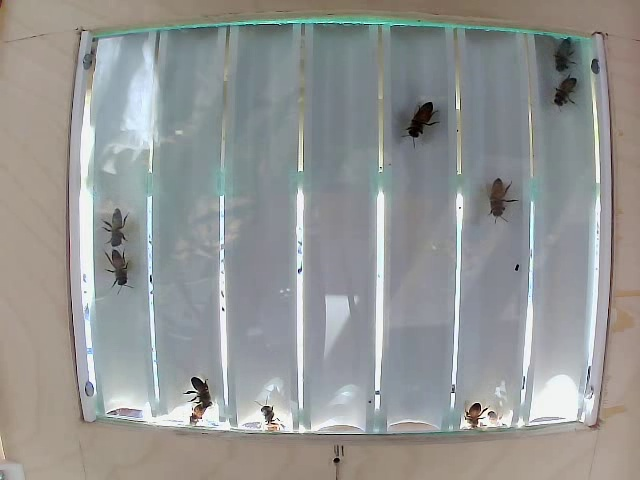bee: (460, 382, 512, 429), (387, 92, 434, 142), (180, 370, 226, 414), (495, 179, 535, 229), (543, 30, 581, 82), (97, 252, 140, 293), (92, 205, 133, 243), (558, 82, 591, 124)
